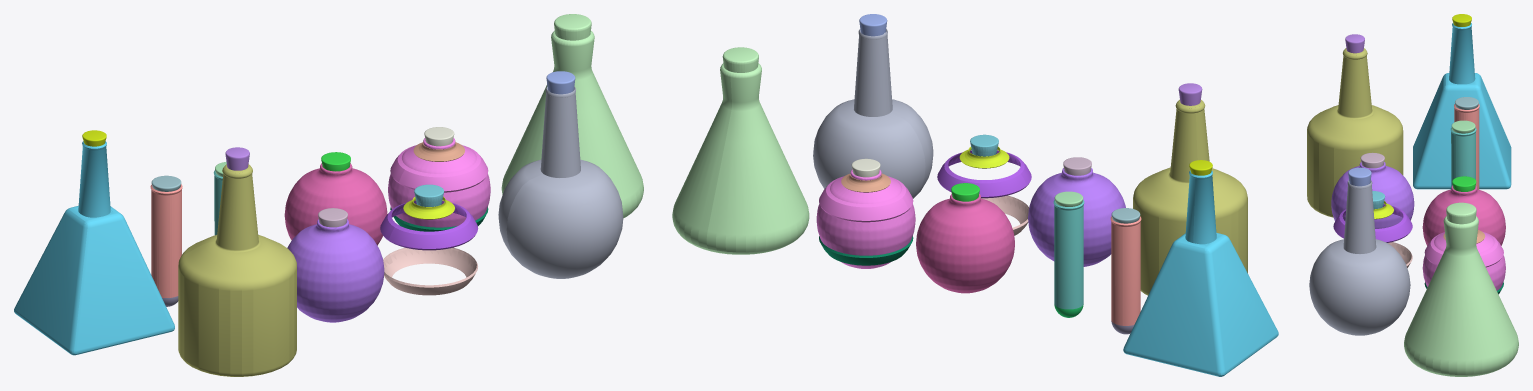
3 views of the same model, side by side, from view 1: azimuth 30°, elevation 25°; view 2: azimuth 150°, elevation 25°; view 3: azimuth 270°, elevation 25° (orthographic). The views are drawn at different scales.
Visible parts, largest first — view 1: split_parent_11, split_parent_7, split_parent_1, split_parent_0, Object_16, split_parent_15, Object_21, split_parent_21, split_parent_27, split_parent_19, split_parent_28, split_parent_26 (+3 smaller); view 2: split_parent_0, split_parent_7, split_parent_1, split_parent_11, Object_21, split_parent_15, Object_16, split_parent_23, split_parent_21, split_parent_19, split_parent_25, split_parent_27 (+4 smaller); view 3: split_parent_0, split_parent_1, split_parent_11, split_parent_7, Object_21, Object_16, split_parent_15, split_parent_23, split_parent_19, split_parent_21, Object_12, Object_37 (+8 smaller).
Part boxes in pixels (left/top/right/bottom): split_parent_11: left=178, top=164, right=296, bottom=376; split_parent_7: left=14, top=141, right=174, bottom=355; split_parent_1: left=498, top=86, right=623, bottom=278; split_parent_0: left=501, top=14, right=643, bottom=218; Object_16: left=287, top=219, right=384, bottom=322; split_parent_15: left=388, top=138, right=490, bottom=227; Object_21: left=284, top=163, right=387, bottom=245; split_parent_21: left=150, top=184, right=182, bottom=297; split_parent_27: left=383, top=247, right=477, bottom=295; split_parent_19: left=380, top=201, right=478, bottom=250; split_parent_28: left=403, top=196, right=454, bottom=219; split_parent_26: left=413, top=141, right=464, bottom=161; split_parent_0: left=672, top=47, right=809, bottom=254; split_parent_7: left=1123, top=170, right=1278, bottom=376; split_parent_1: left=813, top=29, right=933, bottom=198; split_parent_11: left=1133, top=99, right=1247, bottom=295; Object_21: left=916, top=193, right=1014, bottom=293; split_parent_15: left=816, top=169, right=915, bottom=268; Object_16: left=1028, top=168, right=1125, bottom=266; split_parent_23: left=1053, top=200, right=1084, bottom=309; split_parent_21: left=1110, top=216, right=1141, bottom=325; split_parent_19: left=937, top=150, right=1031, bottom=198; split_parent_25: left=819, top=236, right=913, bottom=265; split_parent_27: left=981, top=195, right=1028, bottom=235; split_parent_0: left=1404, top=202, right=1518, bottom=376; split_parent_1: left=1309, top=180, right=1410, bottom=335; split_parent_11: left=1307, top=48, right=1403, bottom=217; split_parent_7: left=1413, top=23, right=1511, bottom=189; Object_21: left=1422, top=185, right=1505, bottom=245; Object_16: left=1331, top=162, right=1414, bottom=228; split_parent_15: left=1422, top=231, right=1505, bottom=290; split_parent_23: left=1450, top=127, right=1476, bottom=186; split_parent_19: left=1333, top=204, right=1412, bottom=242; split_parent_21: left=1454, top=104, right=1479, bottom=189; Object_12: left=1348, top=167, right=1371, bottom=186; Object_37: left=1345, top=34, right=1364, bottom=53.
Size of the model in its own units: 1 by 0.3282 by 0.3831.
